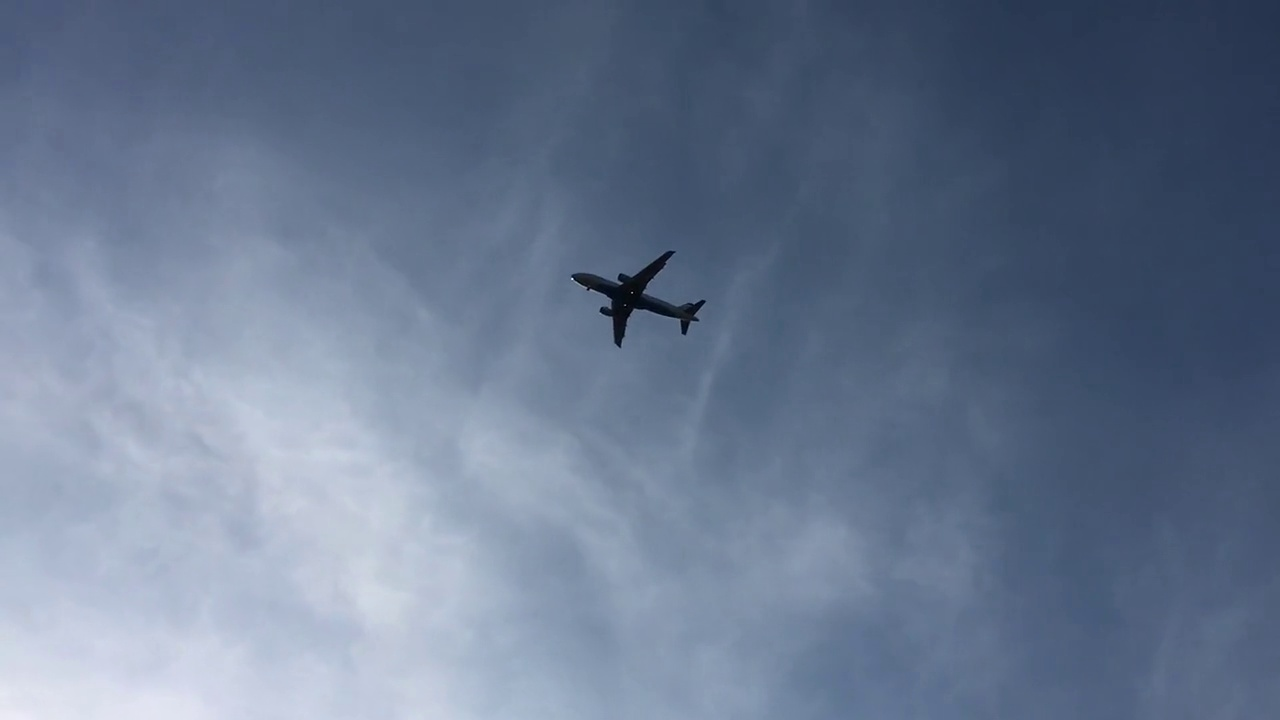plane: (569, 248, 706, 350)
